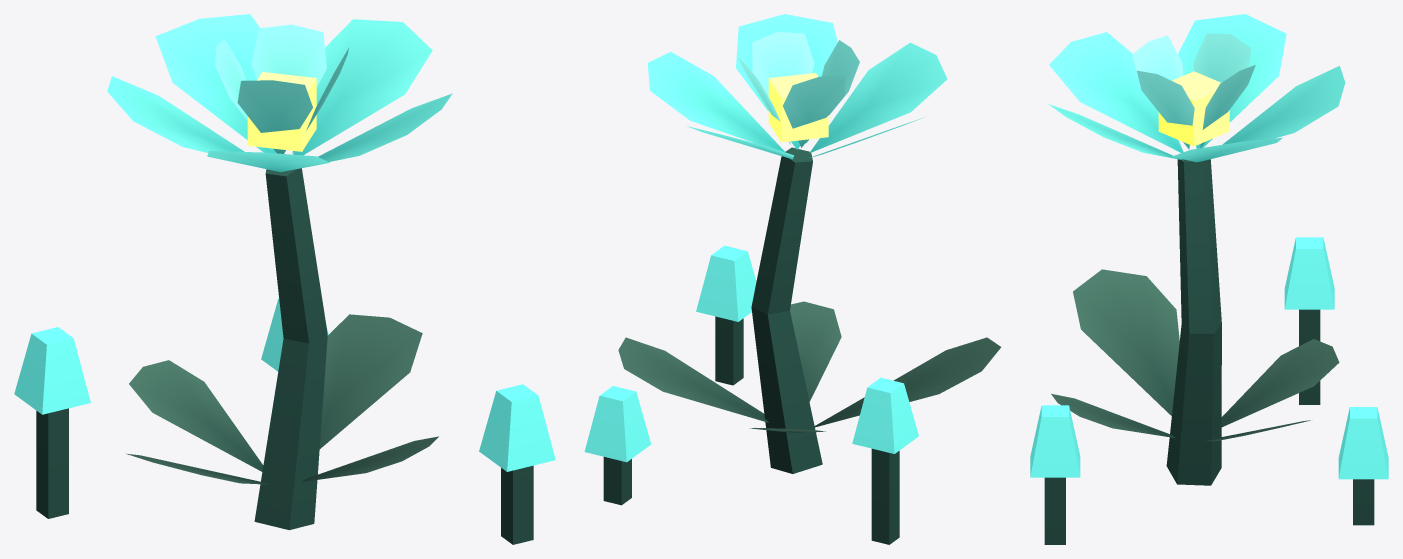
Rendered from crop_protoflower.glb.
3 views of the same model, side by side, from view 1: azimuth 30°, elevation 25°; view 2: azimuth 150°, elevation 25°; view 3: azimuth 270°, elevation 25° (orthographic). The views are drawn at different scales.
Parts seen in each view (by area): view 1: glow_petals, crop_protoflower; view 2: glow_petals, crop_protoflower; view 3: glow_petals, crop_protoflower.
Boxes of the visible parts, left/top/right/bottom form: glow_petals: left=14, top=14, right=555, bottom=471; crop_protoflower: left=36, top=168, right=533, bottom=544; glow_petals: left=584, top=14, right=947, bottom=462; crop_protoflower: left=603, top=147, right=1001, bottom=544; glow_petals: left=1030, top=14, right=1388, bottom=479; crop_protoflower: left=1044, top=159, right=1374, bottom=544.
Size of the model in its own units: 0.99 by 1.21 by 0.93.
